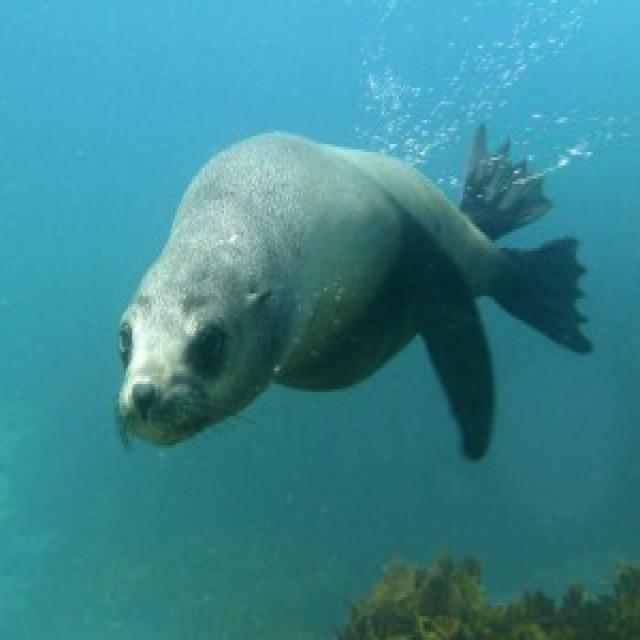Seal: (94, 123, 605, 472)
